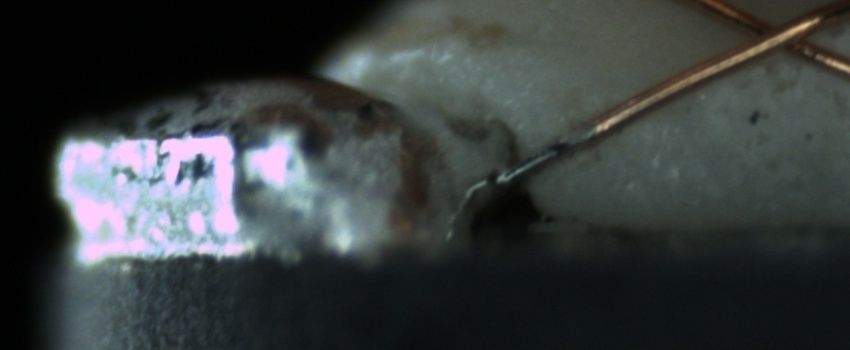CL: (717, 2, 844, 68)
TS: (497, 122, 596, 191)
TTCW: (494, 91, 641, 191)
